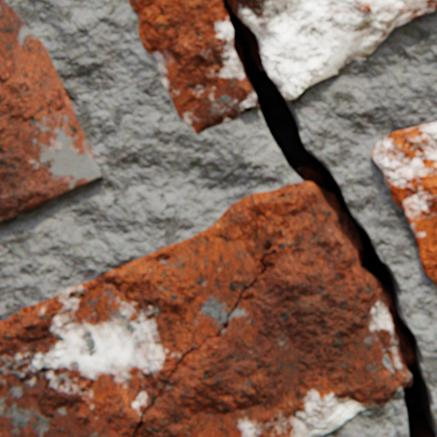brick: (0, 181, 403, 436), (0, 0, 102, 222), (371, 122, 436, 285)
broken_brick: (227, 0, 436, 99), (130, 0, 259, 133)
crack: (225, 0, 436, 436), (144, 248, 276, 409), (133, 411, 144, 436), (265, 240, 273, 248)
